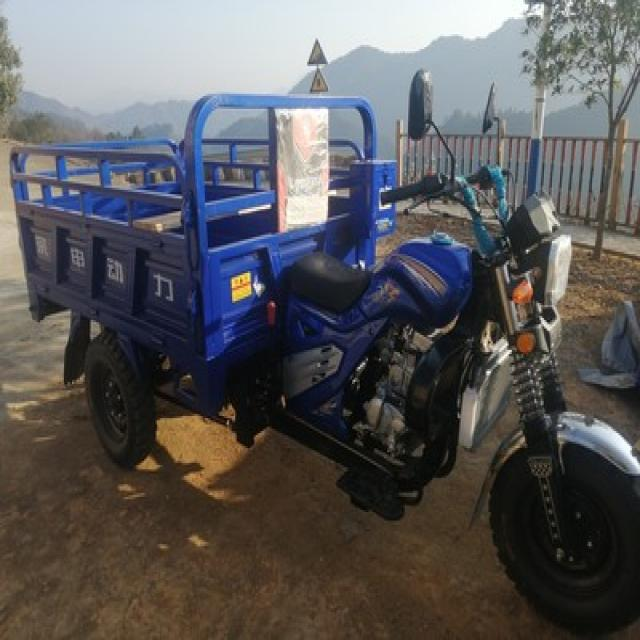tricycle: (3, 64, 637, 638)
